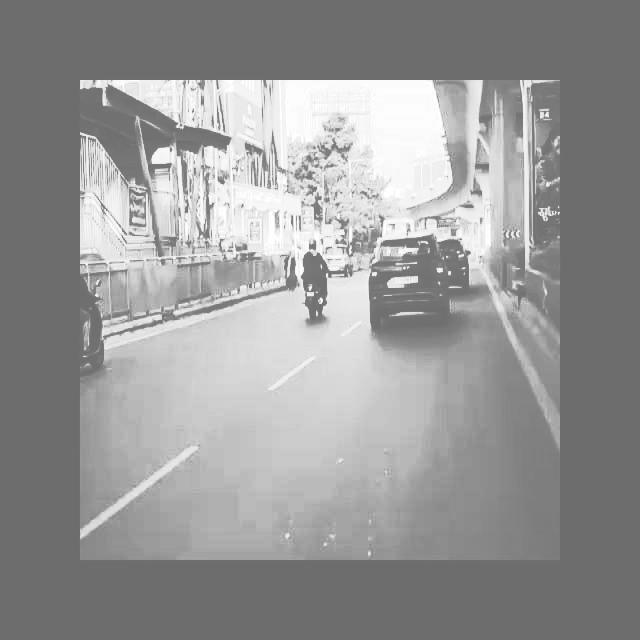Bike: (298, 238, 332, 321)
Car: (366, 231, 455, 335), (439, 238, 474, 294), (322, 244, 359, 278)
